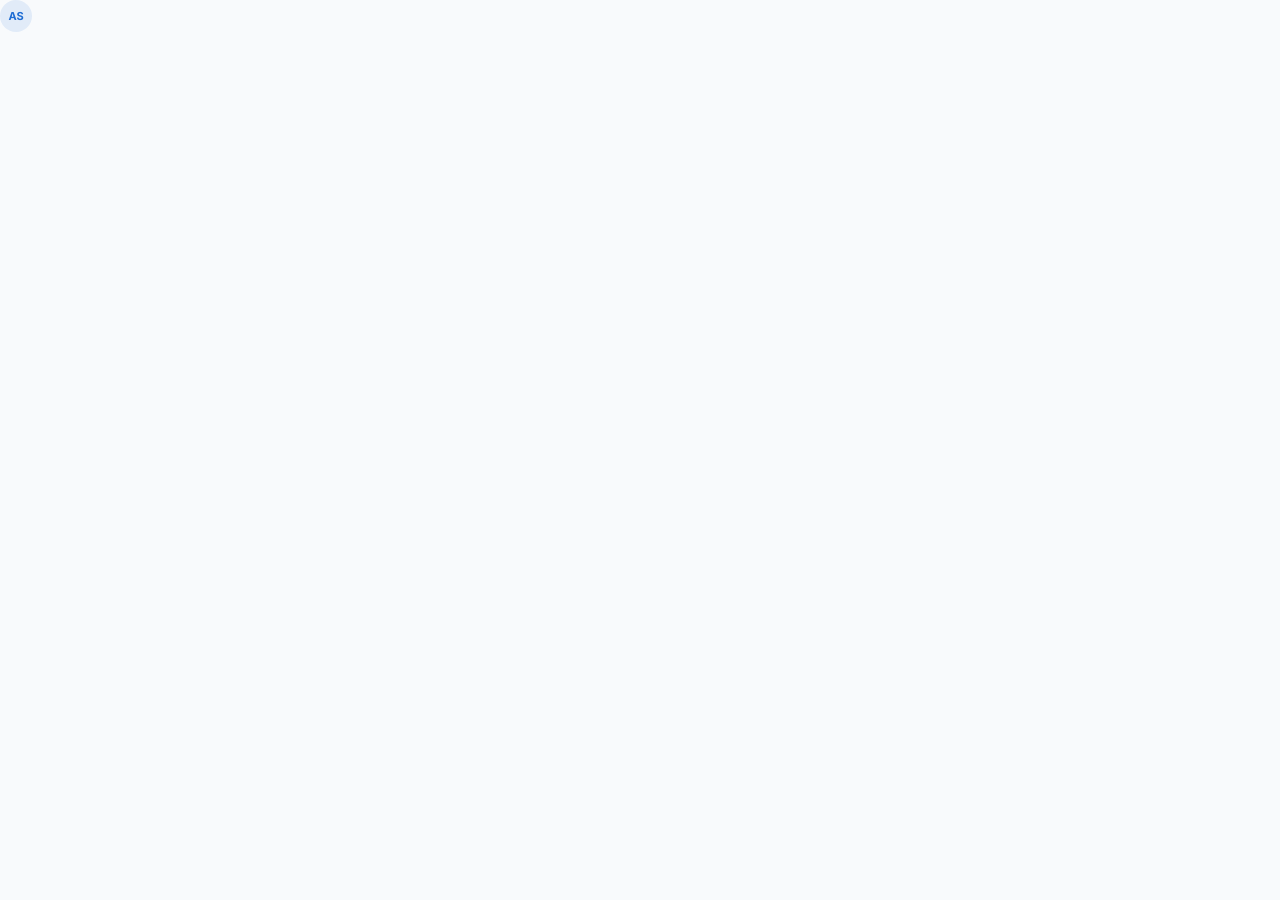
Scenario: Menu do utilizador › sem o evento do browser, "Instalar a app" abre as instruções
Press Enter in the button with aria-label "Menu do utilizador", box [0,0,32,32]
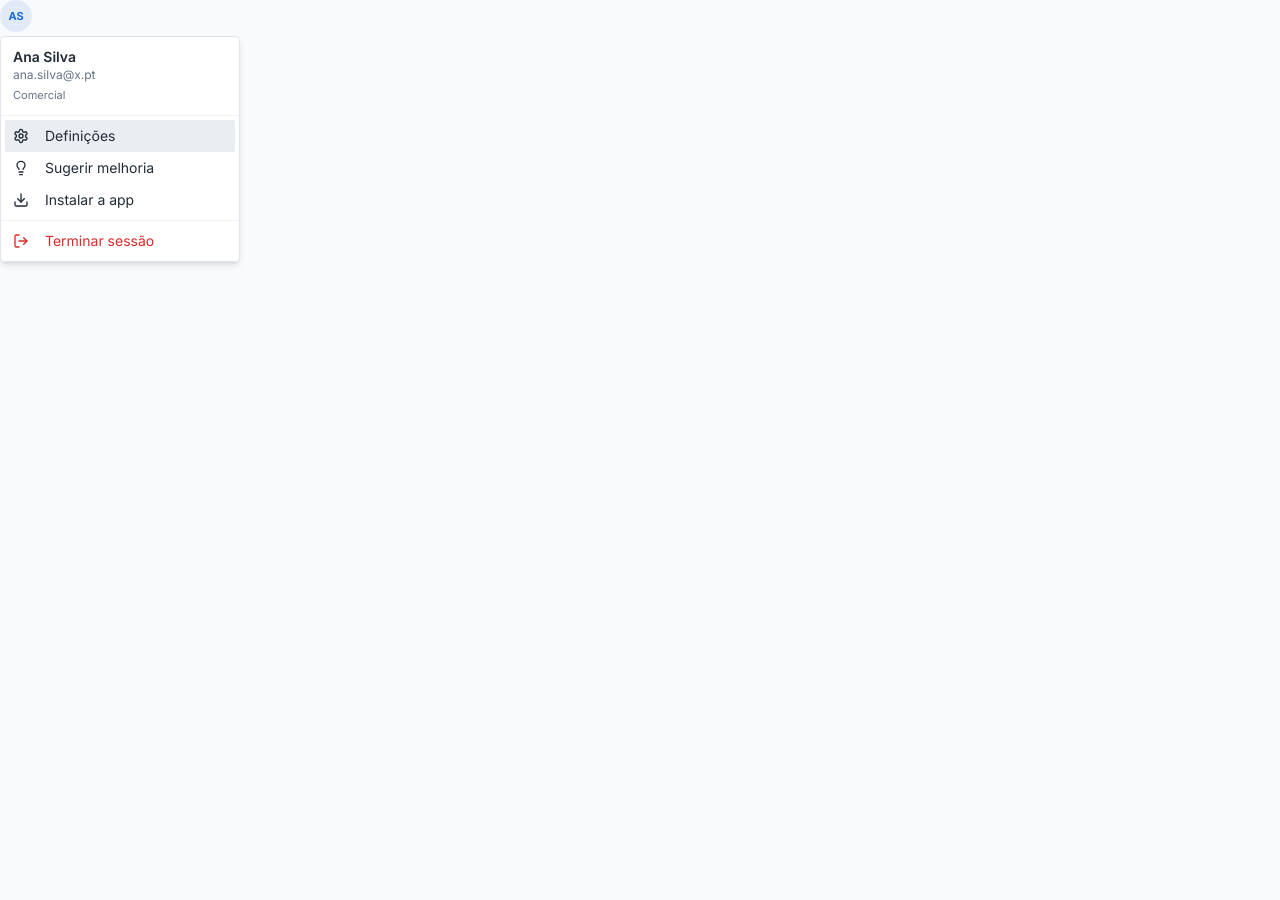
Click the menu item "Instalar a app" at (74,200), box [13,191,134,208]
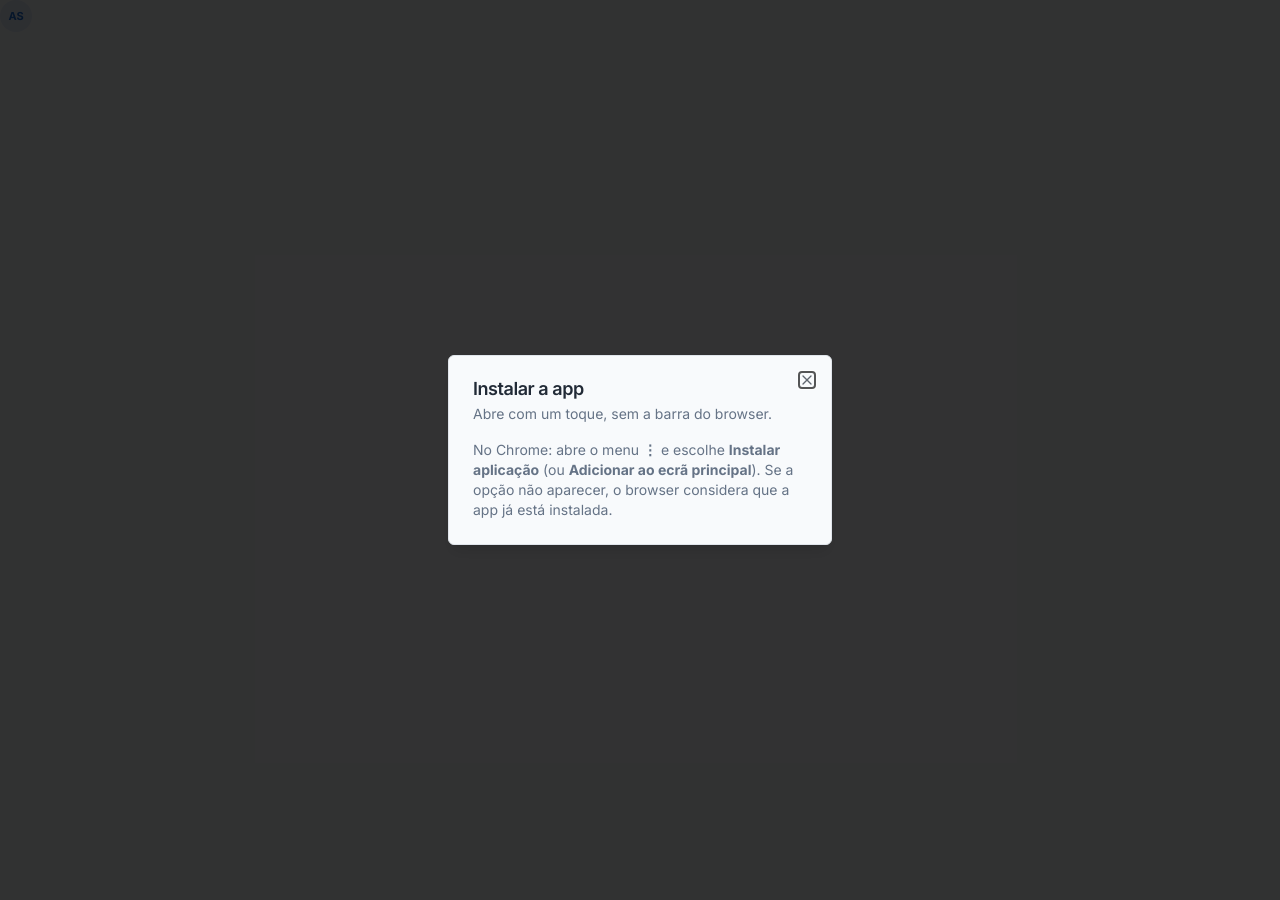
Check: the text "Instalar aplicação" is shown, box [473,441,780,478]
